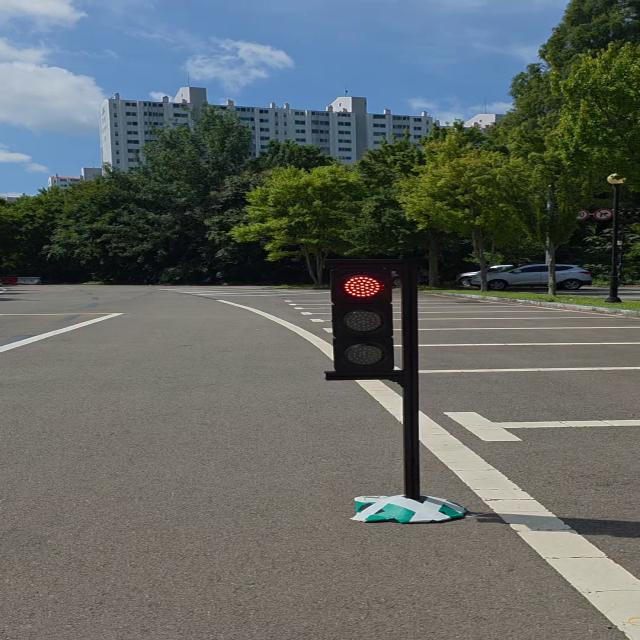red: (324, 264, 409, 377)
